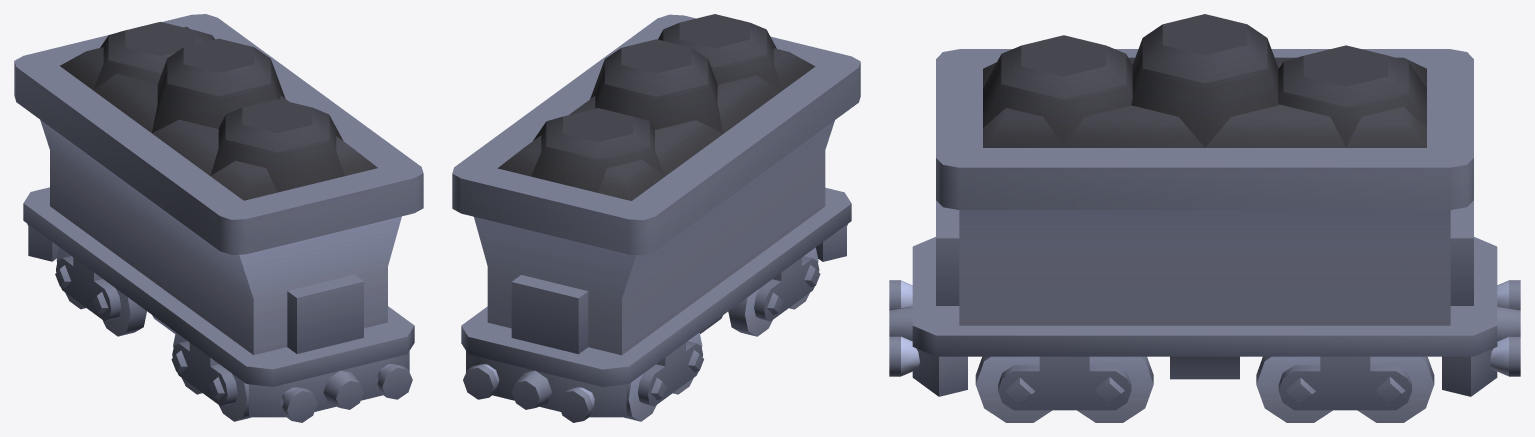
File: kolvagn.glb
3 renders of one model, left to right at view 1: azimuth 30°, elevation 25°; view 2: azimuth 150°, elevation 25°; view 3: azimuth 270°, elevation 25°, orthographic. The views are drawn at different scales.
Parts seen in each view (by area): view 1: train-carriage-coal, cargo, wheels-back, wheels-front; view 2: train-carriage-coal, cargo, wheels-front, wheels-back; view 3: train-carriage-coal, cargo, wheels-front, wheels-back.
Boxes of the visible parts, box(x1,y1,x2,y2) form: train-carriage-coal: box(14, 14, 423, 422); cargo: box(60, 22, 377, 200); wheels-back: box(55, 247, 146, 336); wheels-front: box(171, 332, 250, 421); train-carriage-coal: box(452, 14, 860, 422); cargo: box(497, 14, 815, 200); wheels-front: box(728, 247, 820, 336); wheels-back: box(624, 332, 703, 421); train-carriage-coal: box(889, 49, 1520, 396); cargo: box(983, 14, 1426, 147); wheels-front: box(975, 356, 1153, 422); wheels-back: box(1256, 356, 1434, 422).
Bounding box in the file's own units: 1.2 × 1.65 × 2.7.
1 material, 1 textured.
